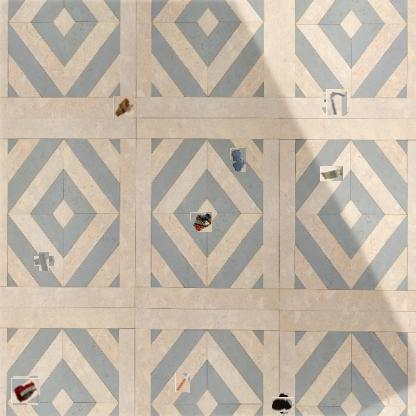dirty: (12, 377, 39, 404), (324, 90, 349, 115), (113, 97, 135, 118), (190, 212, 212, 232), (320, 165, 343, 181), (175, 372, 190, 392), (36, 253, 52, 269)
liquid: (230, 148, 246, 172), (274, 395, 293, 414)
